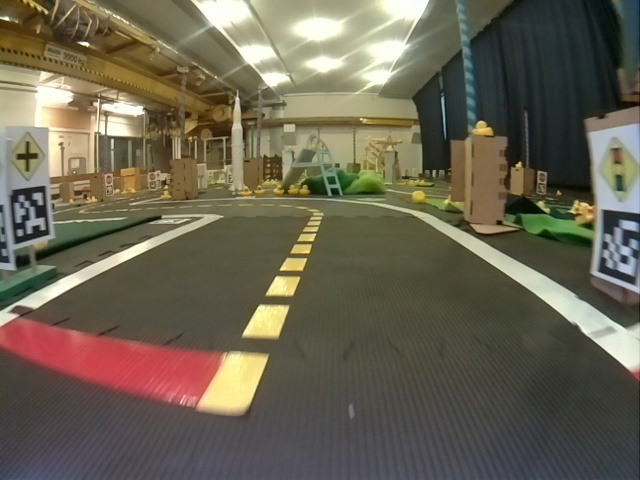Duckie: (473, 121, 492, 135), (412, 192, 425, 202), (299, 185, 309, 194), (254, 186, 264, 195), (288, 185, 297, 194), (161, 191, 171, 199), (242, 187, 251, 195), (273, 186, 283, 193)
Intersection sign: (8, 130, 46, 181)
QR code: (596, 208, 639, 285), (9, 185, 51, 245)
Signal sign: (596, 133, 639, 203)
